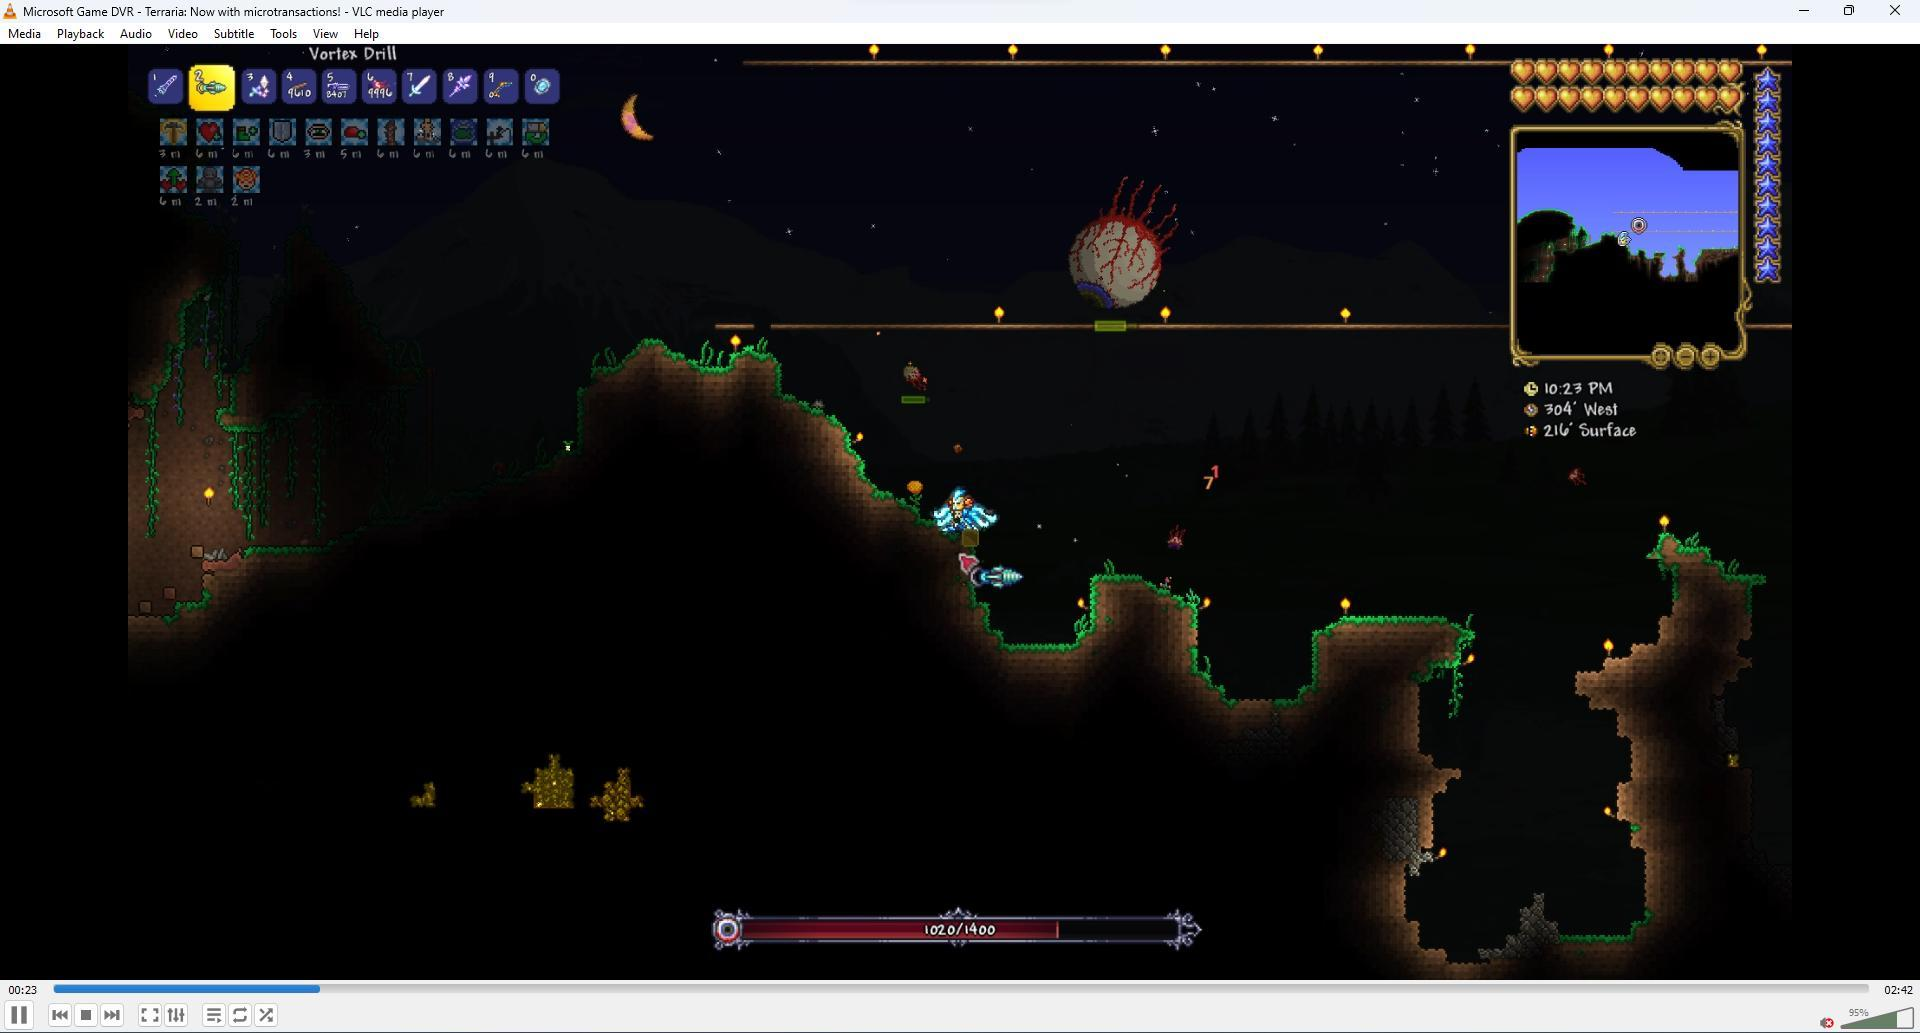eyeC: (1072, 178, 1181, 315)
